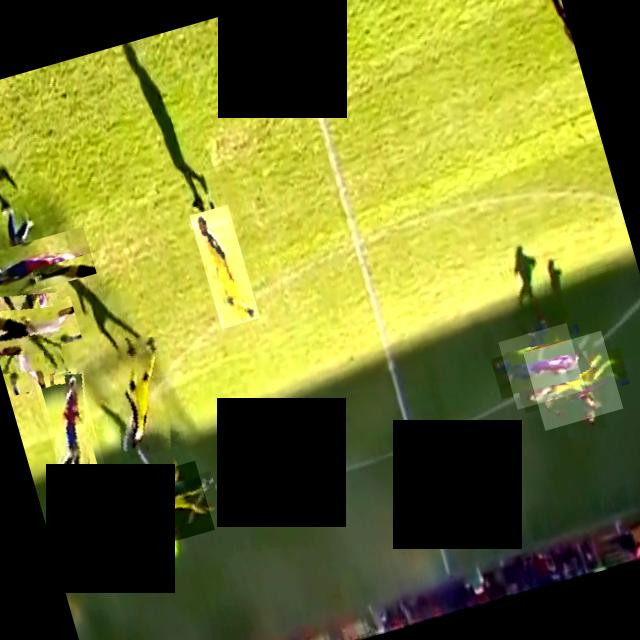referee: (0, 280, 73, 382)
soccer-player: (98, 329, 190, 459), (523, 330, 623, 430), (0, 211, 82, 322), (189, 204, 260, 328), (33, 366, 107, 484), (126, 460, 214, 549), (498, 322, 586, 409)
